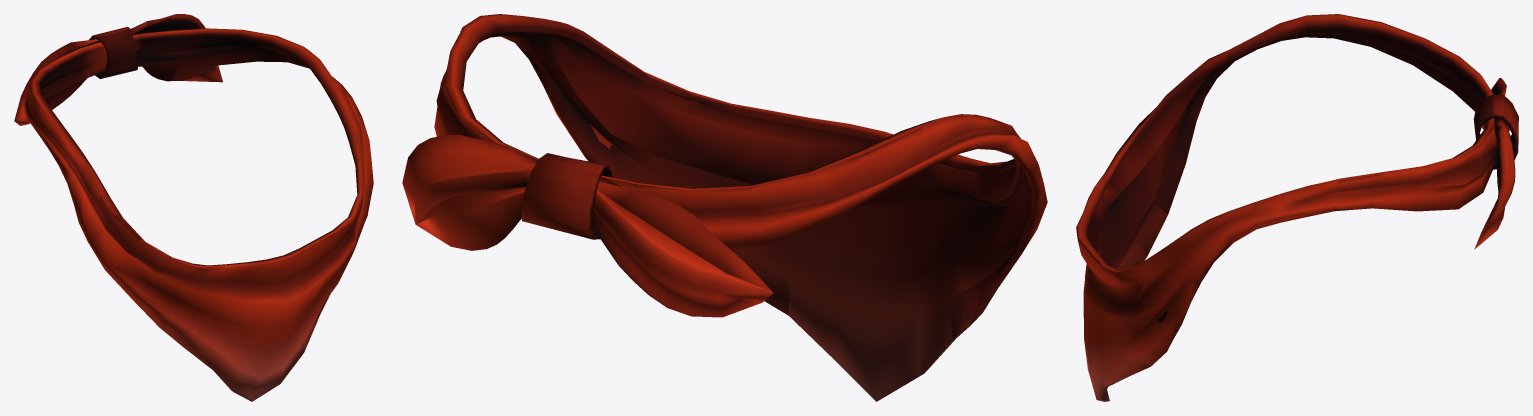
The model's file is Mask_Cowboy_Scarf.gltf.
The picture shows the model from 3 angles, left to right: view 1: azimuth 30°, elevation 25°; view 2: azimuth 150°, elevation 25°; view 3: azimuth 270°, elevation 25°; orthographic projection. The views are drawn at different scales.
Visible parts, largest first — view 1: Mask_Cowboy_Scarf; view 2: Mask_Cowboy_Scarf; view 3: Mask_Cowboy_Scarf.
Boxes of the visible parts, <box> form: Mask_Cowboy_Scarf: <box>14,14,373,401</box>; Mask_Cowboy_Scarf: <box>402,14,1047,401</box>; Mask_Cowboy_Scarf: <box>1076,14,1518,401</box>.
Bounding box in the file's own units: 1.06 × 0.881 × 1.12.
Materials: 1 (1 with a texture image).
